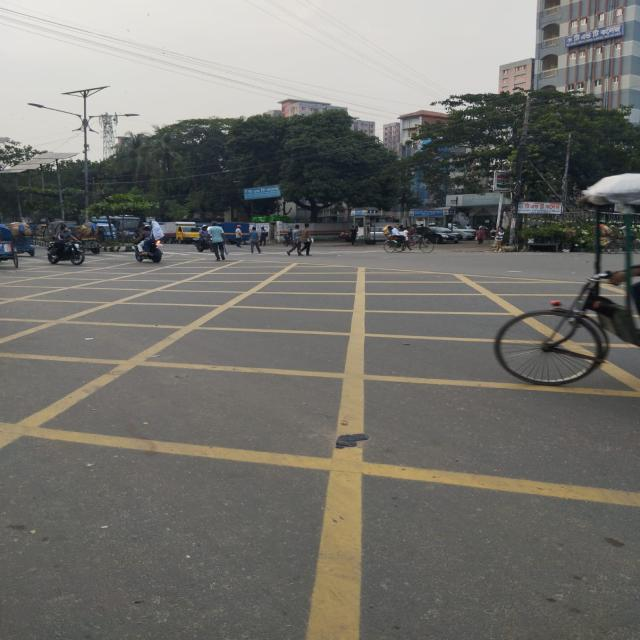person: (208, 222, 225, 260), (298, 223, 312, 256), (287, 224, 301, 256)
